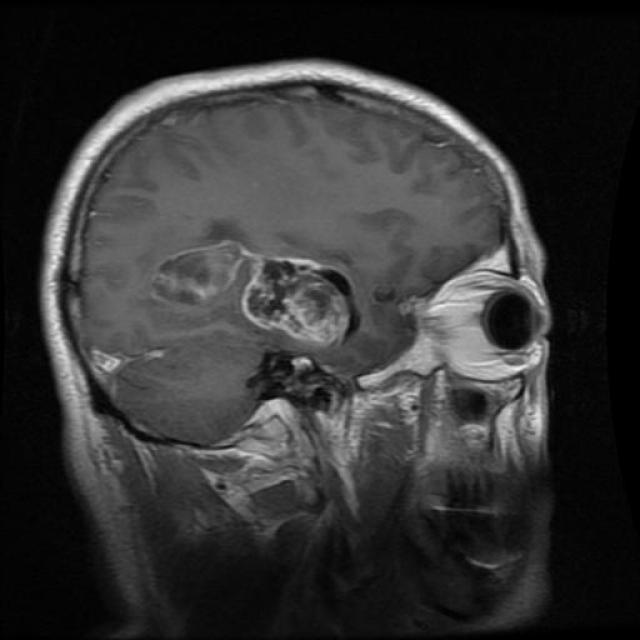Brain-Tumor: (130, 217, 405, 365)
eye: (421, 258, 556, 389)
